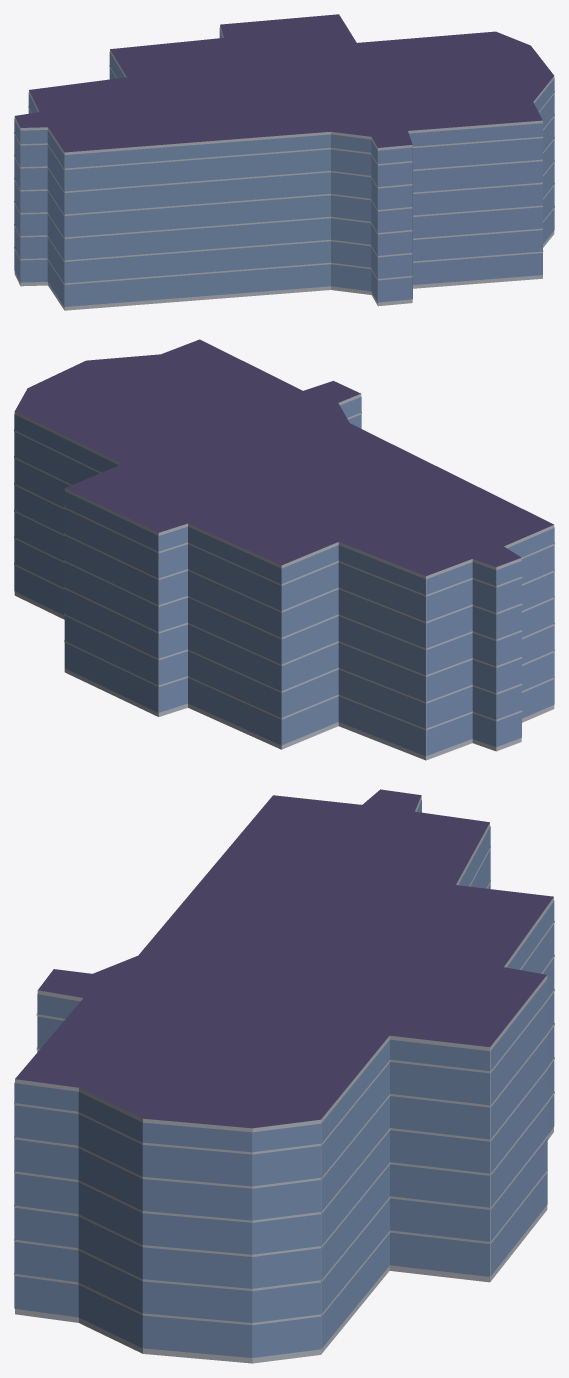
The model's file is core-health-sciences-building-day.glb.
3 renders of one model, top to bottom at view 1: azimuth 30°, elevation 25°; view 2: azimuth 150°, elevation 25°; view 3: azimuth 270°, elevation 25°, orthographic. The views are drawn at different scales.
Parts seen in each view (by area): view 1: campus/core-health-sciences-building-day-0; view 2: campus/core-health-sciences-building-day-0; view 3: campus/core-health-sciences-building-day-0.
Part boxes in pixels (x1=…): campus/core-health-sciences-building-day-0: x1=14, y1=14, x2=554, y2=310; campus/core-health-sciences-building-day-0: x1=14, y1=339, x2=554, y2=760; campus/core-health-sciences-building-day-0: x1=14, y1=789, x2=554, y2=1363.
Bounding box in the file's own units: 76.82 × 24.8 × 51.7.
